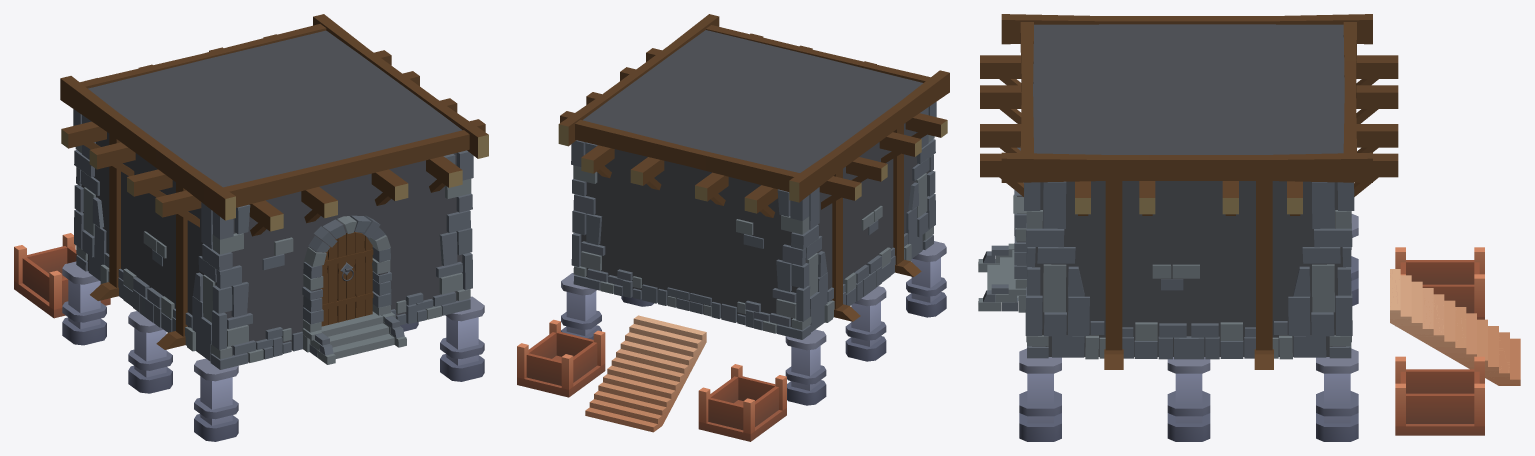
The model's file is london_bld_granary.glb.
3 renders of one model, left to right at view 1: azimuth 30°, elevation 25°; view 2: azimuth 150°, elevation 25°; view 3: azimuth 270°, elevation 25°, orthographic. The views are drawn at different scales.
Parts seen in each view (by area): view 1: House_4, pillar-stone (×4), crate; view 2: House_4, crate (×2), pillar-stone (×4), stairs-stone; view 3: House_4, pillar-stone (×4), crate (×2), stairs-stone.
Part boxes in pixels (left/top/right/bottom): House_4: left=60, top=14, right=488, bottom=369; pillar-stone (×4): left=62, top=261, right=484, bottom=441; crate: left=14, top=233, right=110, bottom=318; House_4: left=558, top=14, right=949, bottom=339; crate (×2): left=517, top=319, right=786, bottom=441; pillar-stone (×4): left=561, top=241, right=946, bottom=405; stairs-stone: left=585, top=315, right=706, bottom=432; House_4: left=978, top=14, right=1398, bottom=369; pillar-stone (×4): left=1019, top=214, right=1358, bottom=441; crate (×2): left=1395, top=247, right=1484, bottom=435; stairs-stone: left=1390, top=269, right=1520, bottom=385.
Size of the model in its own units: 11.04 by 8.1 by 14.26.
Materials: 8 (3 with a texture image).
